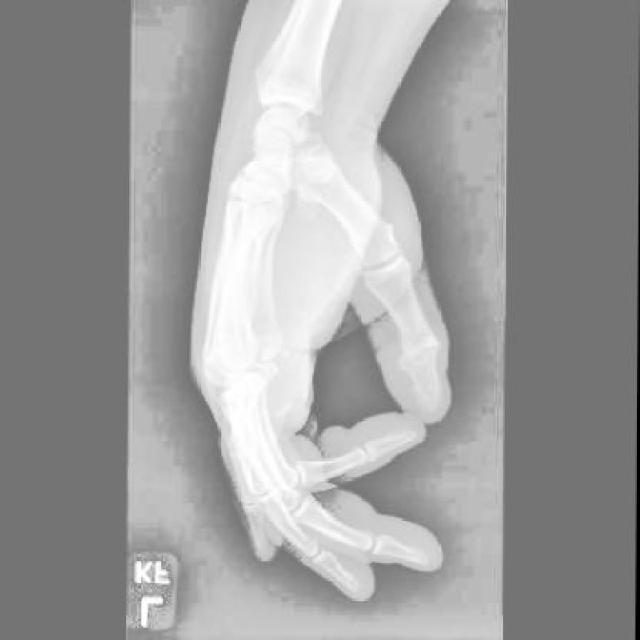Fracture: (223, 168, 276, 197)
